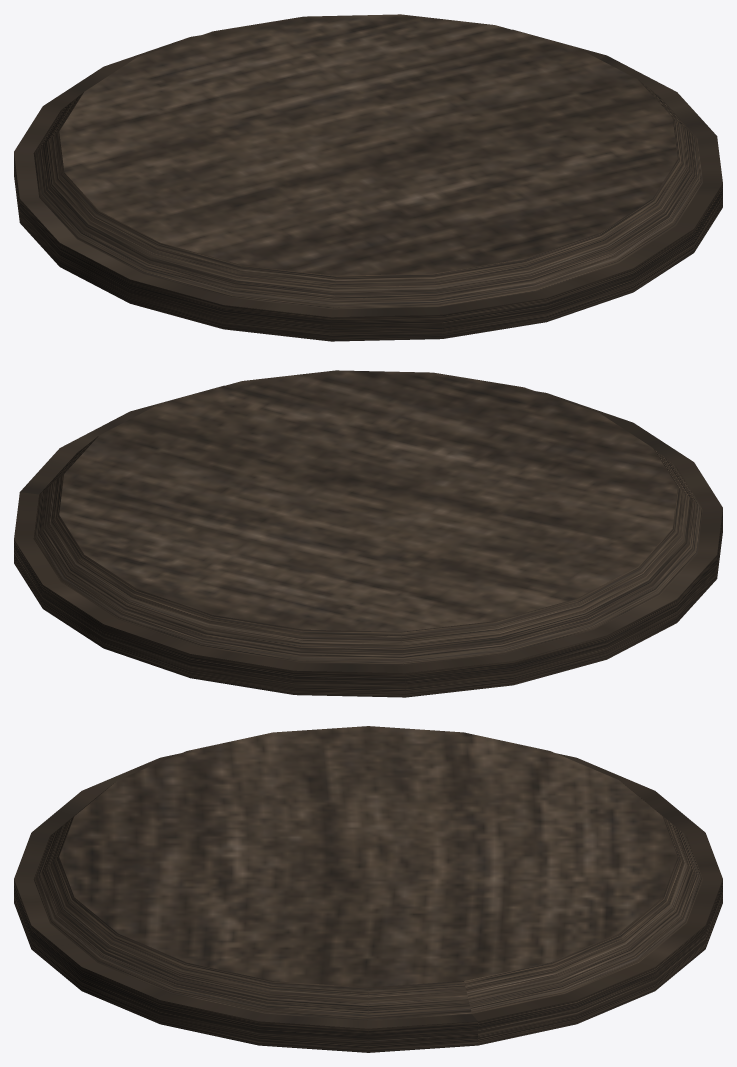
File: pedestalOBJ.obj
3 renders of one model, top to bottom at view 1: azimuth 30°, elevation 25°; view 2: azimuth 150°, elevation 25°; view 3: azimuth 270°, elevation 25°, orthographic.
Parts seen in each view (by area): view 1: pCylinder1; view 2: pCylinder1; view 3: pCylinder1.
Boxes of the visible parts, bbox=[...] form: pCylinder1: bbox=[14, 14, 722, 341]; pCylinder1: bbox=[14, 370, 722, 697]; pCylinder1: bbox=[14, 726, 722, 1052].
Size of the model in its own units: 16.21 by 1.17 by 16.21.
Materials: 1 (1 with a texture image).
